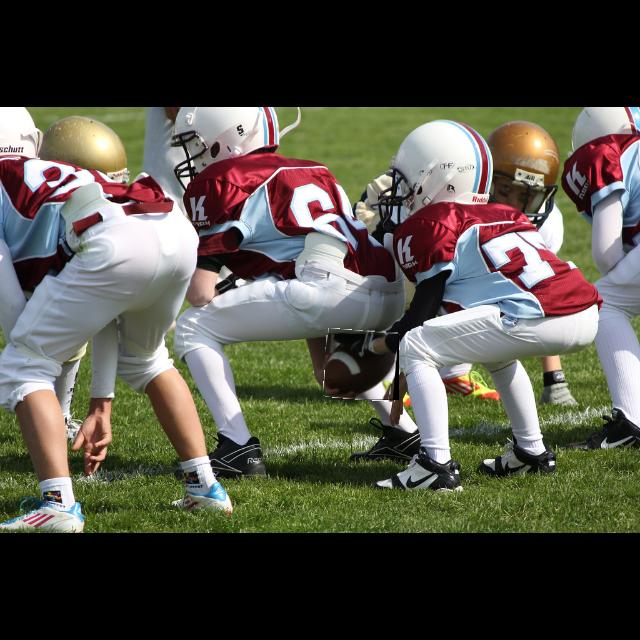Football: (325, 330, 399, 400)
